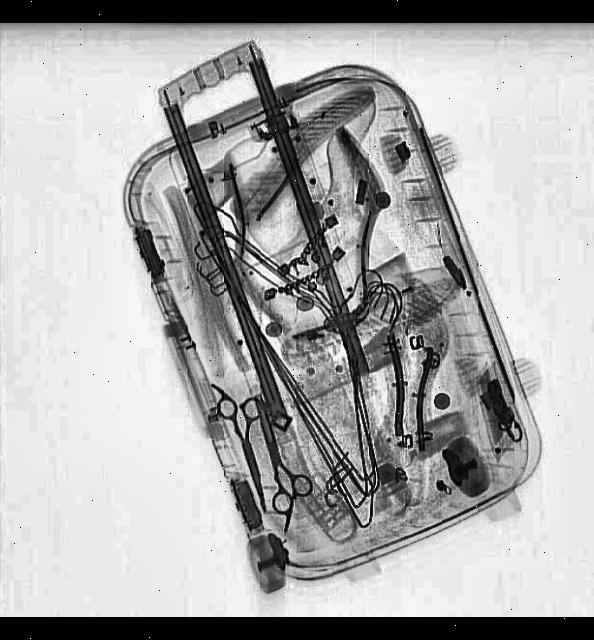Scissors: (240, 384, 320, 518), (218, 385, 284, 517)
